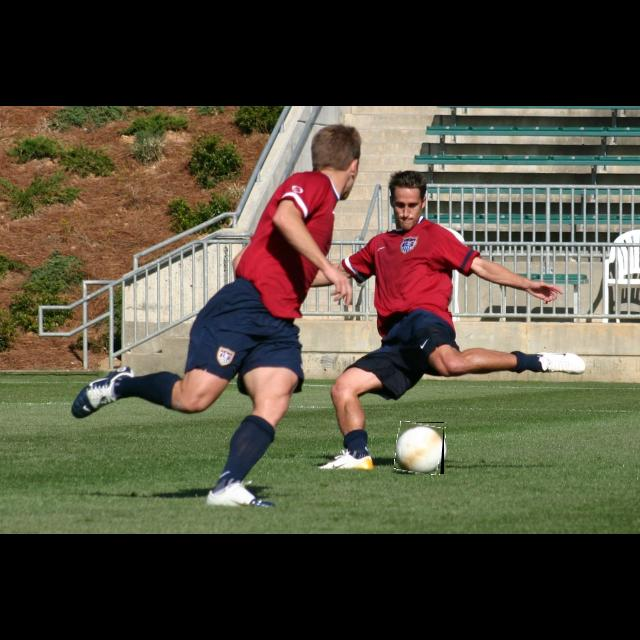Football: (396, 422, 444, 474)
